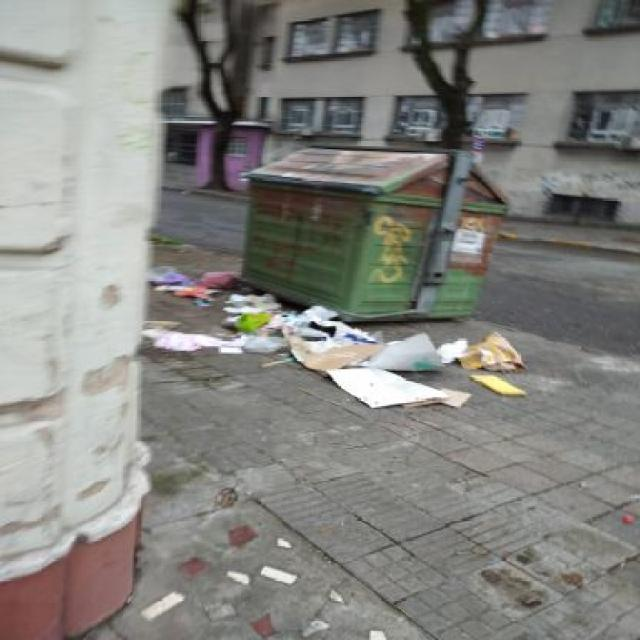garbage: (154, 249, 530, 419)
